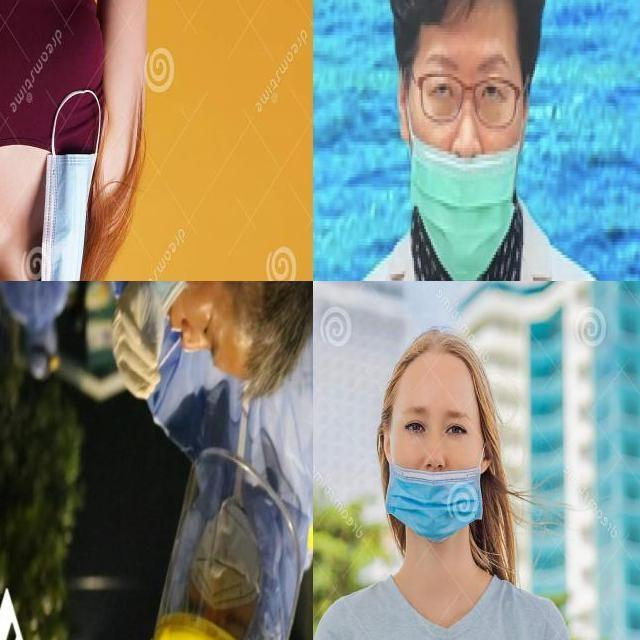hairnet: (399, 98, 529, 271), (380, 415, 493, 545), (151, 281, 230, 370)
mask: (187, 498, 272, 621)
no_gloves: (389, 0, 550, 83), (379, 324, 492, 427), (231, 281, 314, 417)
